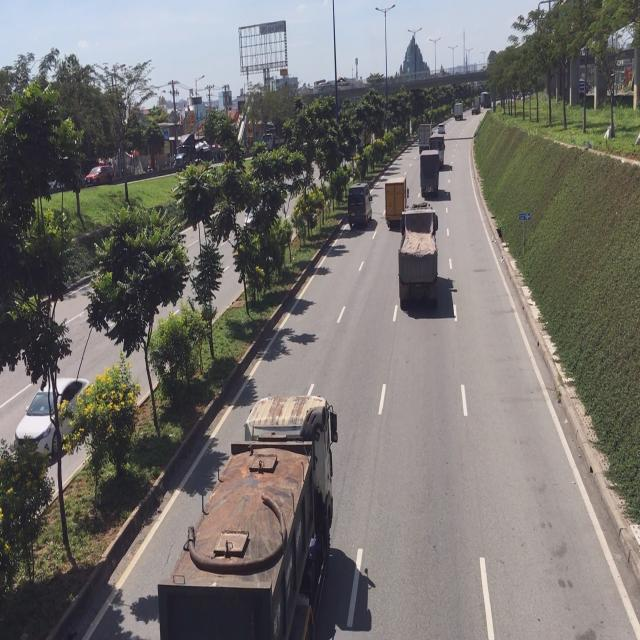bus: (346, 180, 372, 231)
truck: (156, 393, 340, 640), (398, 194, 443, 311), (384, 176, 408, 226), (420, 148, 440, 199)
